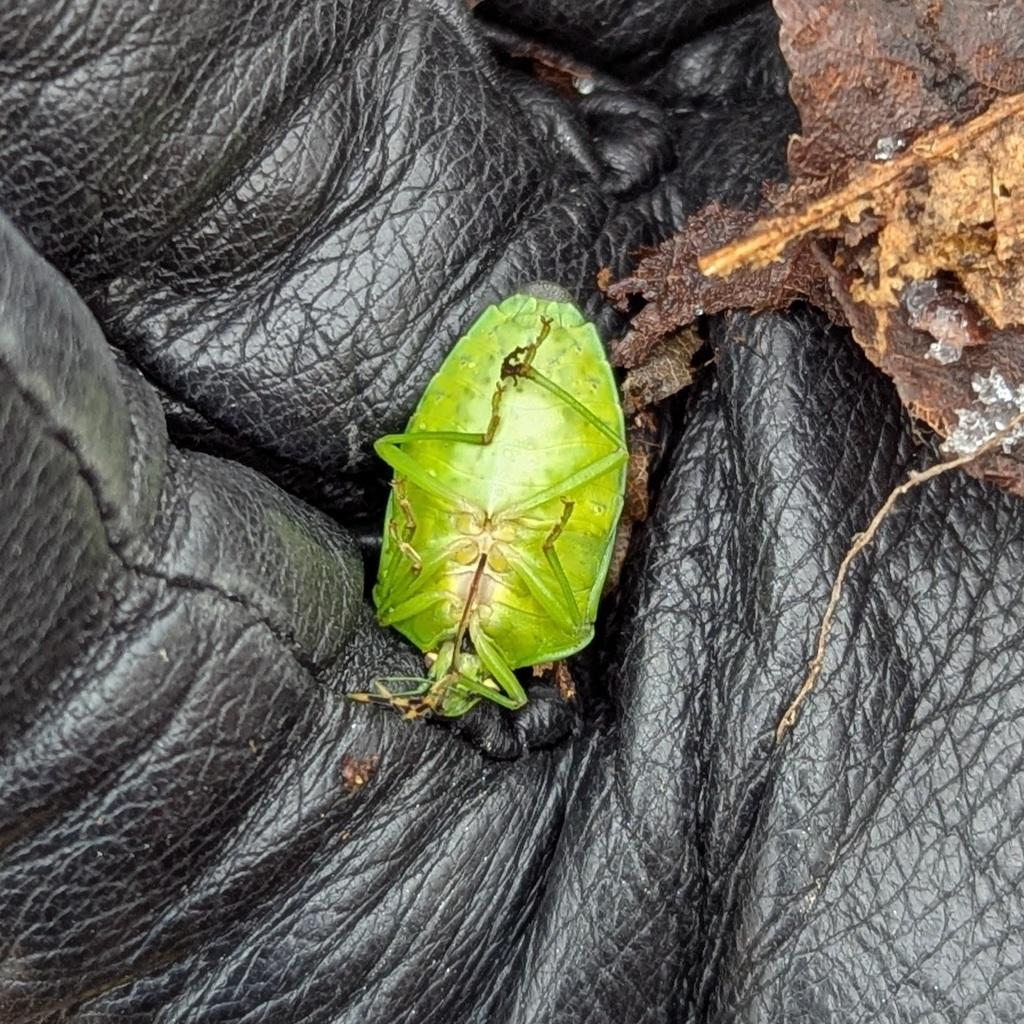stink_bugs: (270, 204, 698, 792)
